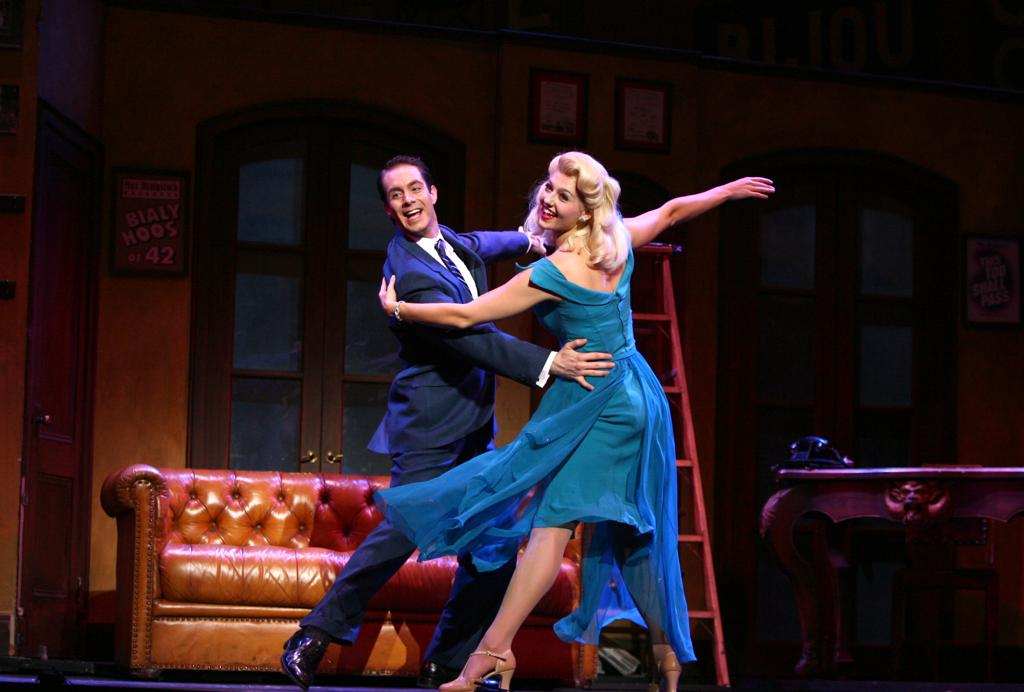face: (535, 170, 584, 230), (387, 166, 431, 230)
